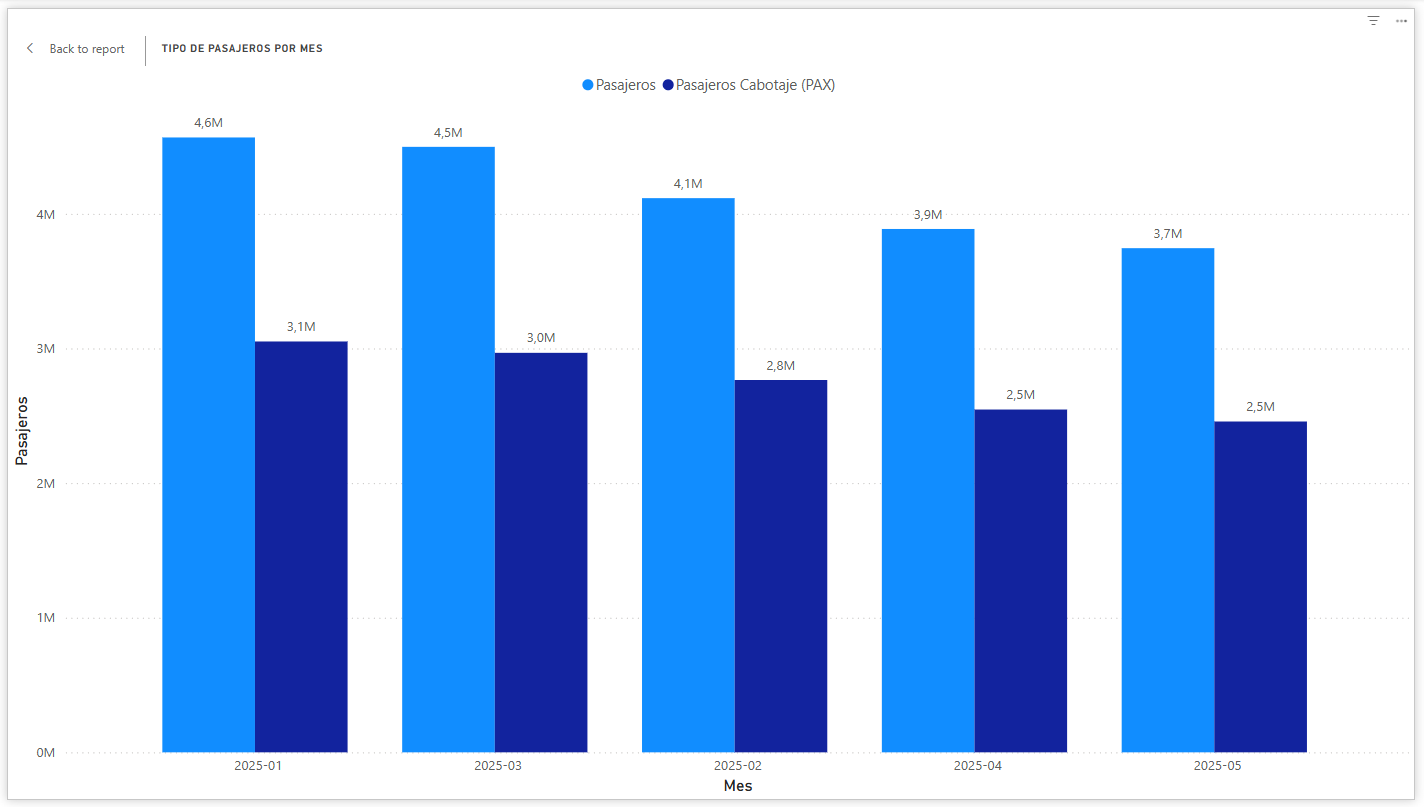

This screenshot's page, from the dashboard's own definition file:
{"tool":"powerbi","page":{"name":"Pasajeros por Mes","canvas":[1280,720],"ordinal":3},"visuals":[{"type":"clusteredColumnChart","fields":{"Category":["vw_PasajerosPorMes.AñoMes"],"Y":["Sum(vw_PasajerosPorMes.TotalPasajeros)","Sum(vw_PasajerosPorMes.TotalPax)"]},"box":[10,0,1270.4,720],"z":0}]}

Visuals, with their boxes on the page's 1280x720 design canvas (x1, y1, x2, y2). These are canvas units, not pixel positions in the 1424x807 screenshot, which may show the page scaled, cropped or inside an application window:
clusteredColumnChart - vw_PasajerosPorMes.AñoMes x Sum(vw_PasajerosPorMes.TotalPasajeros): 10:0:1280:720
